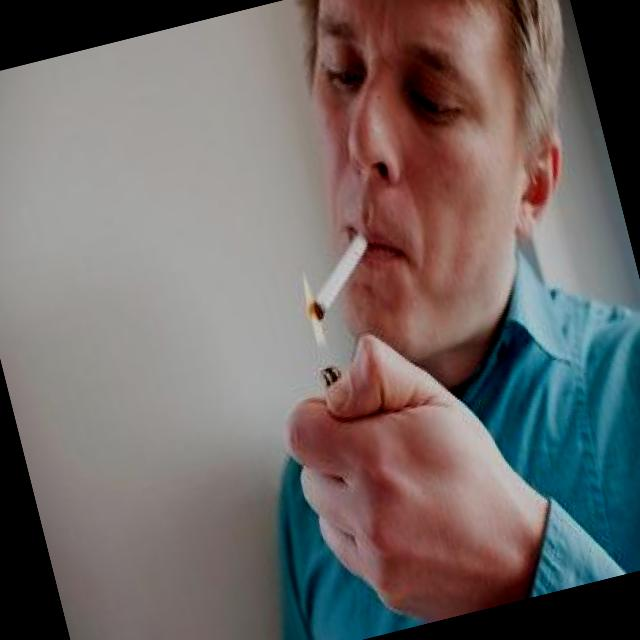cigarette: (244, 197, 431, 444)
